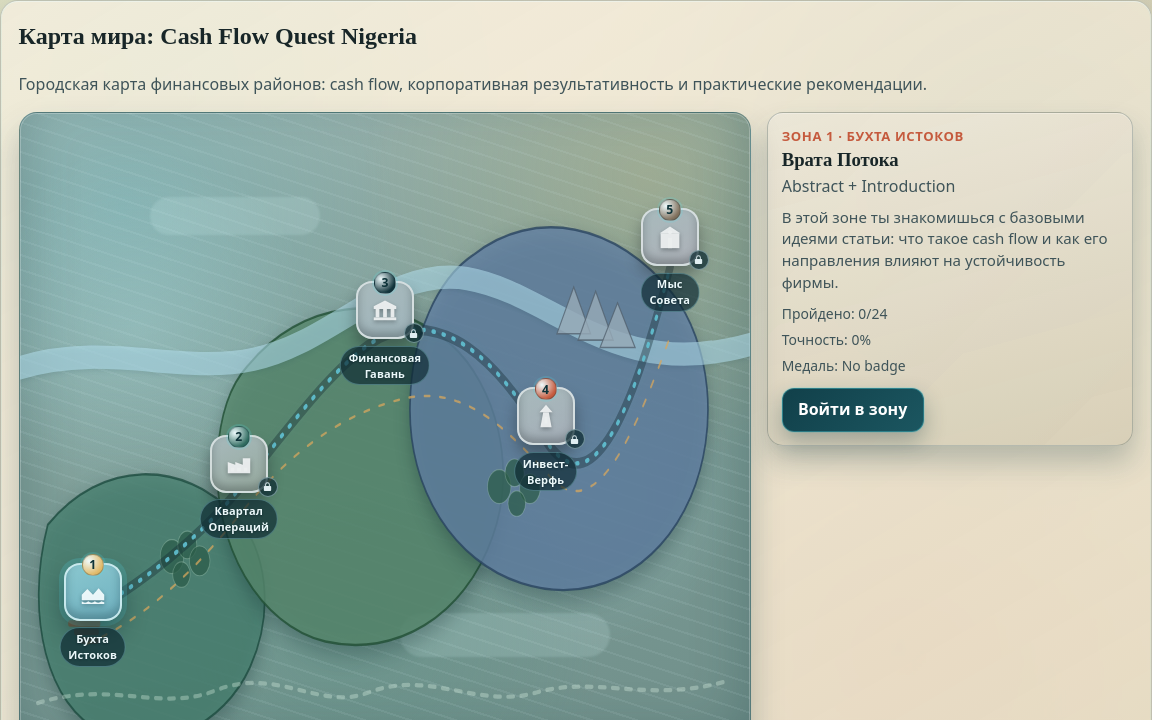
WorldMapPage › shows locked note and hides enter action for locked zones
The image size is (1152, 720).
Click the button with aria-label "Зона 2: Операционный Квартал".
click(239, 480)  # box [183,424,295,536]
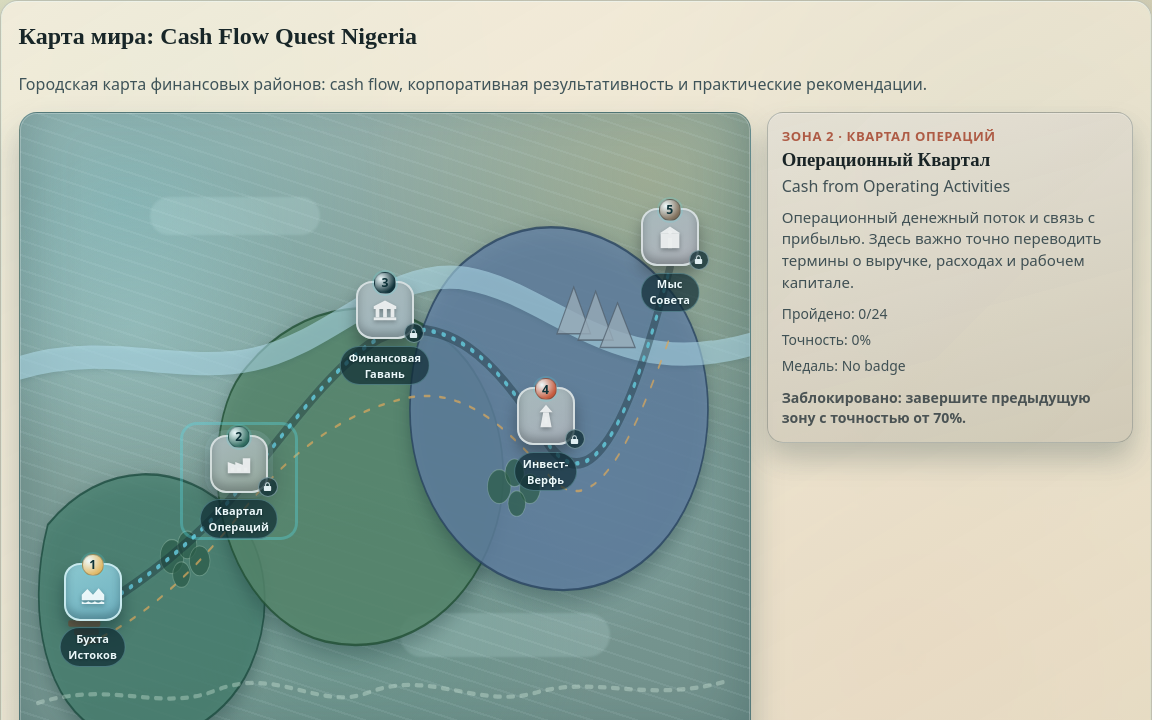
Now the heading "Операционный Квартал" is shown, box [782,149,990,170]
Now the text "Заблокировано: завершите предыдущую зону с точностью от 70%." is shown, box [782,388,1119,429]
Now the link "Войти в зону" is gone
